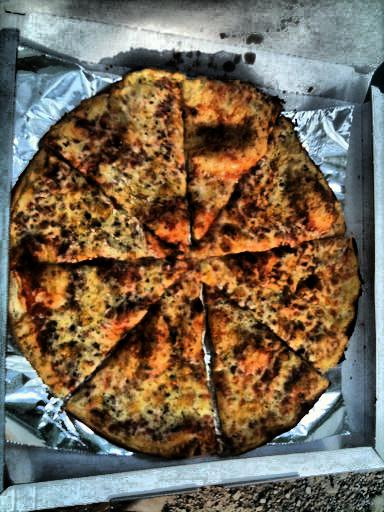pizza: (19, 75, 356, 444)
